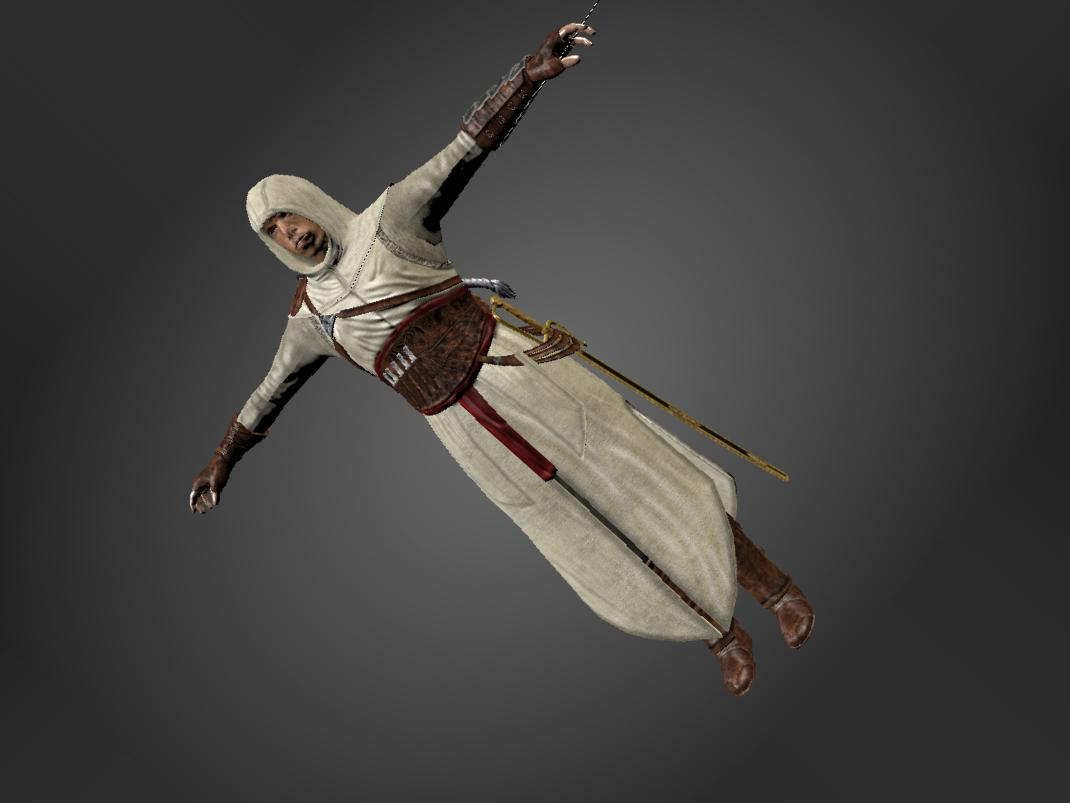clip: (509, 340, 541, 375)
